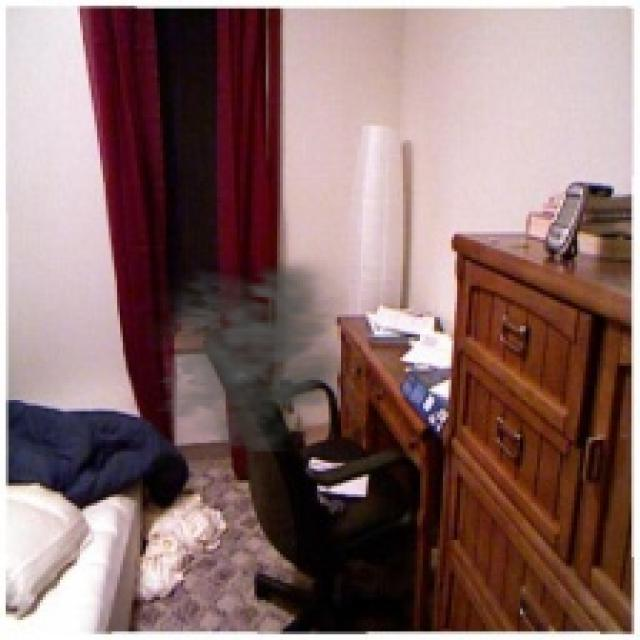Smoke: (134, 252, 349, 452)
